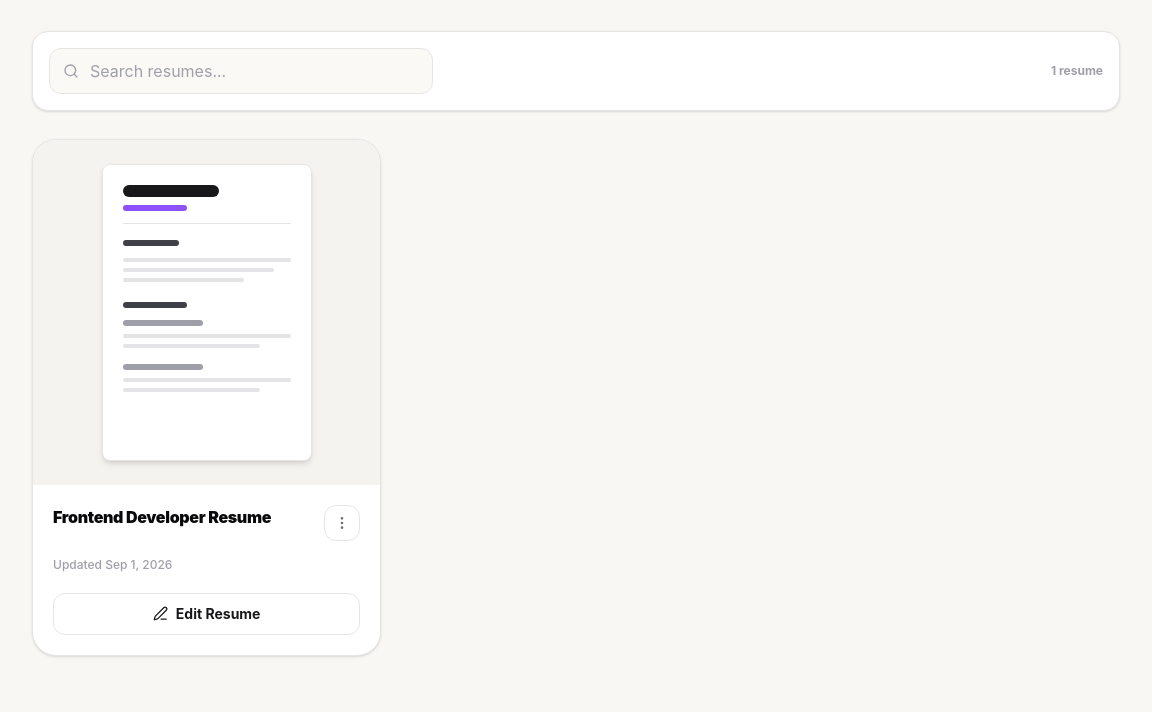
ResumeCard rename › trims whitespace when renaming
(page scrolled)
Click the button named "Actions for Frontend Developer Resume".
click(342, 523)  # box x1=324 y1=505 x2=360 y2=541
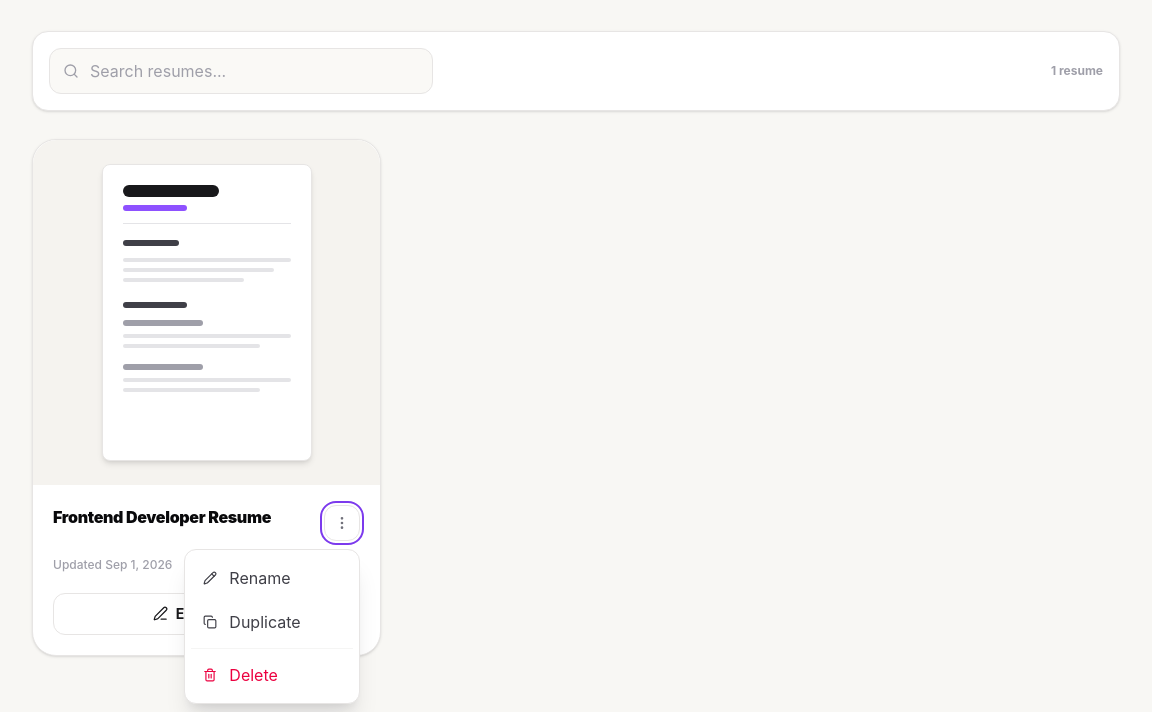
Click the button "Rename".
click(272, 578)  # box x1=191 y1=556 x2=353 y2=600
(page scrolled)
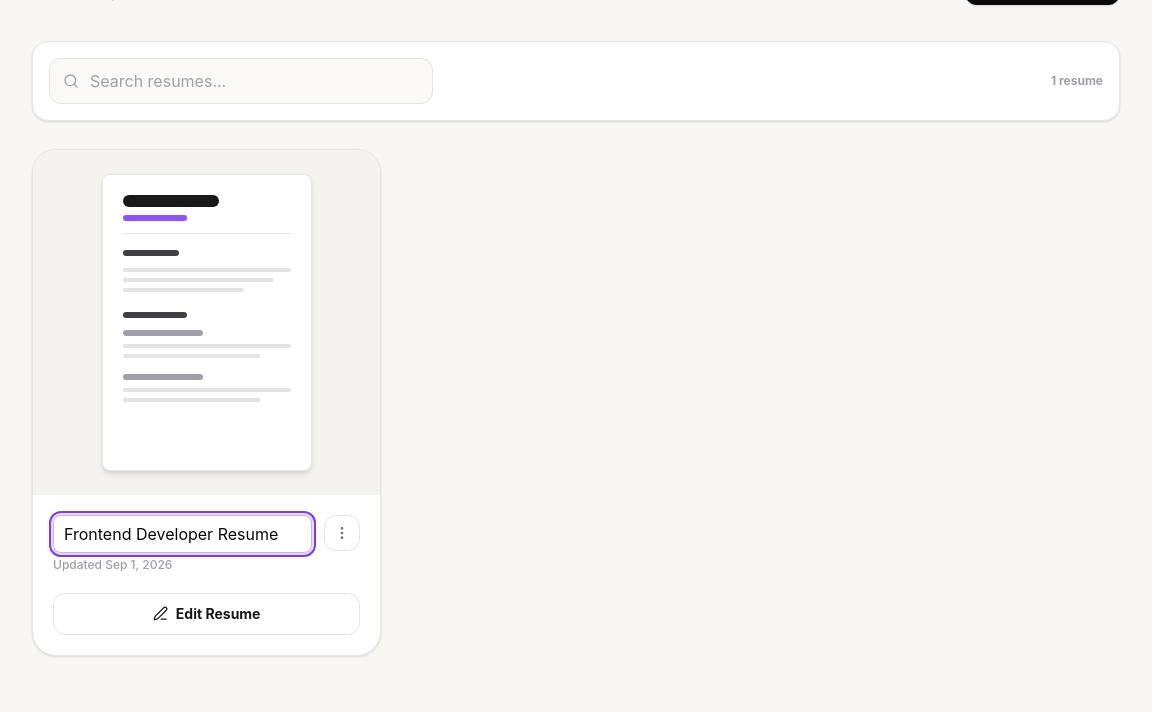
Replace the text in the field named "Resume title" with "   React Engineer Resume   " at (183, 534), box x1=53 y1=515 x2=312 y2=553
Then press Enter
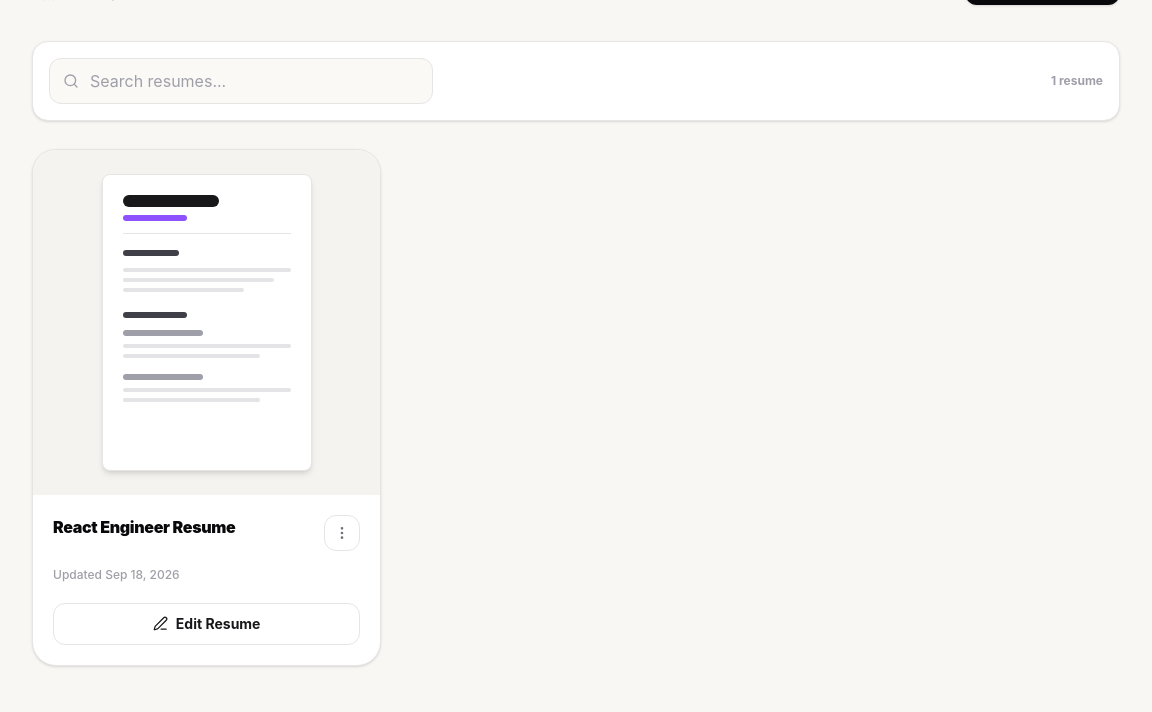
Expected: the heading "React Engineer Resume" is shown, x1=53 y1=517 x2=236 y2=537
